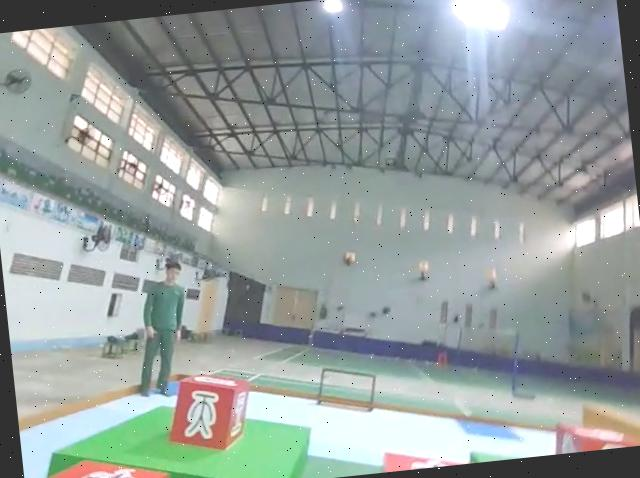R1: (374, 436, 497, 474), (22, 448, 172, 478)
R2 Fake: (162, 367, 255, 457), (546, 408, 640, 455)
